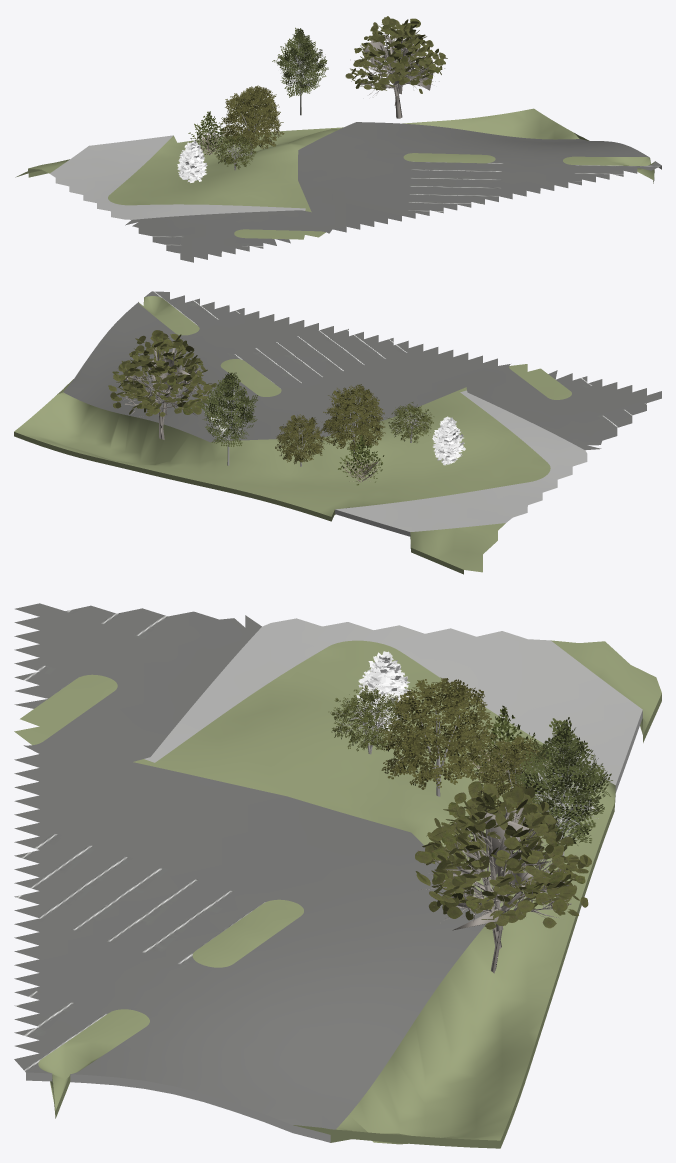
3 views of the same model, one above another, from view 1: azimuth 30°, elevation 25°; view 2: azimuth 150°, elevation 25°; view 3: azimuth 270°, elevation 25° (orthographic). The views are drawn at different scales.
Parts seen in each view (by area): view 1: SW_ground_overlook_asphalt_2_8_UNVERIFIED, SW_Ov_trees_Tree_234_UNVERIFIEDspecies, SW_Ov_trees_Tree_301_UNVERIFIEDspecies, SW_Ov_trees_Tree_263_UNVERIFIEDspecies, SW_Ov_trees_Tree_327_UNVERIFIEDspecies, SW_Ov_trees_Tree_325_UNVERIFIEDspecies, SW_Ov_trees_Tree_322_UNVERIFIEDspecies; view 2: SW_ground_overlook_asphalt_2_8_UNVERIFIED, SW_Ov_trees_Tree_234_UNVERIFIEDspecies, SW_Ov_trees_Tree_301_UNVERIFIEDspecies, SW_Ov_trees_Tree_263_UNVERIFIEDspecies, SW_Ov_trees_Tree_327_UNVERIFIEDspecies, SW_Ov_trees_Tree_325_UNVERIFIEDspecies, SW_Ov_trees_Tree_322_UNVERIFIEDspecies; view 3: SW_ground_overlook_asphalt_2_8_UNVERIFIED, SW_Ov_trees_Tree_234_UNVERIFIEDspecies, SW_Ov_trees_Tree_301_UNVERIFIEDspecies, SW_Ov_trees_Tree_263_UNVERIFIEDspecies, SW_Ov_trees_Tree_327_UNVERIFIEDspecies, SW_Ov_trees_Tree_325_UNVERIFIEDspecies, SW_Ov_trees_Tree_322_UNVERIFIEDspecies.
Part boxes in pixels (x1,y1,x2,y2): SW_ground_overlook_asphalt_2_8_UNVERIFIED: (15,108,661,262); SW_Ov_trees_Tree_234_UNVERIFIEDspecies: (345,16,447,118); SW_Ov_trees_Tree_301_UNVERIFIEDspecies: (217,85,284,170); SW_Ov_trees_Tree_263_UNVERIFIEDspecies: (272,27,328,115); SW_Ov_trees_Tree_327_UNVERIFIEDspecies: (214,132,257,169); SW_Ov_trees_Tree_325_UNVERIFIEDspecies: (177,140,207,182); SW_Ov_trees_Tree_322_UNVERIFIEDspecies: (188,111,225,154); SW_ground_overlook_asphalt_2_8_UNVERIFIED: (14,291,661,574); SW_Ov_trees_Tree_234_UNVERIFIEDspecies: (108,330,219,439); SW_Ov_trees_Tree_301_UNVERIFIEDspecies: (275,384,430,466); SW_Ov_trees_Tree_263_UNVERIFIEDspecies: (197,372,257,465); SW_Ov_trees_Tree_327_UNVERIFIEDspecies: (387,402,434,442); SW_Ov_trees_Tree_325_UNVERIFIEDspecies: (432,416,465,465); SW_Ov_trees_Tree_322_UNVERIFIEDspecies: (338,435,384,485); SW_ground_overlook_asphalt_2_8_UNVERIFIED: (14,603,661,1148); SW_Ov_trees_Tree_234_UNVERIFIEDspecies: (415,780,591,973); SW_Ov_trees_Tree_301_UNVERIFIEDspecies: (332,677,555,809); SW_Ov_trees_Tree_263_UNVERIFIEDspecies: (514,717,612,880); SW_Ov_trees_Tree_327_UNVERIFIEDspecies: (328,684,413,751); SW_Ov_trees_Tree_325_UNVERIFIEDspecies: (356,651,414,730); SW_Ov_trees_Tree_322_UNVERIFIEDspecies: (460,705,538,786).
Size of the model in its own units: 69 by 19.54 by 43.68.
Materials: 14 (6 with a texture image).
